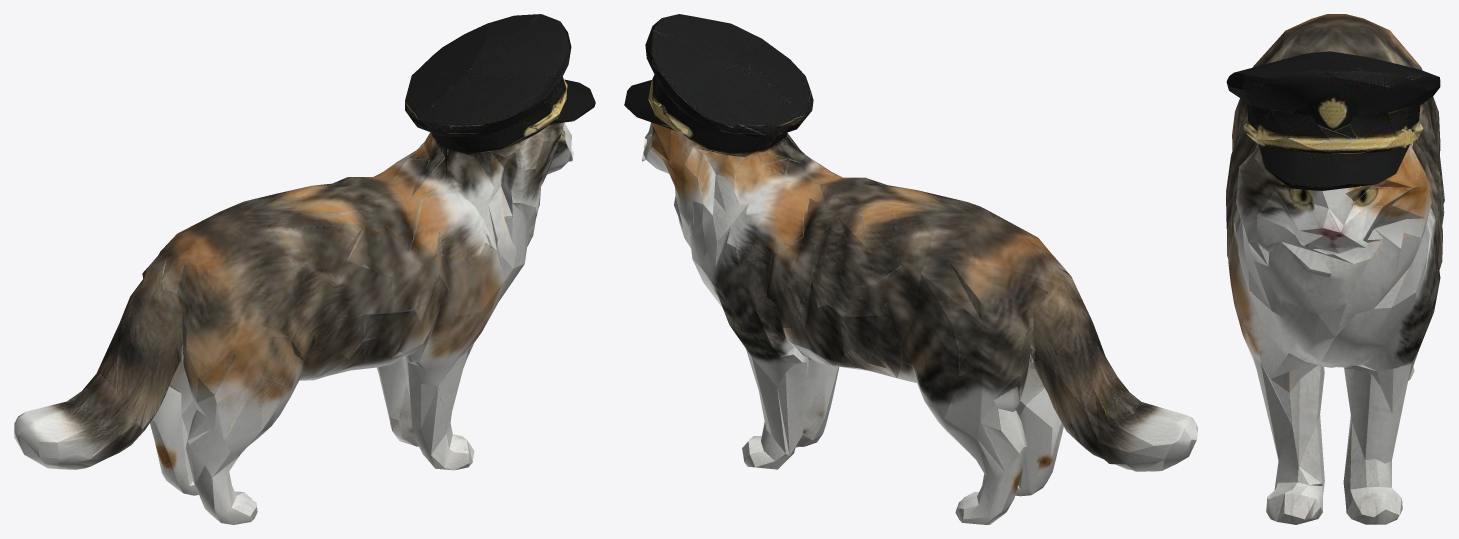
File: NITAMACAT-lo.glb
The picture shows the model from 3 angles, left to right: view 1: azimuth 30°, elevation 25°; view 2: azimuth 150°, elevation 25°; view 3: azimuth 270°, elevation 25°; orthographic projection. The views are drawn at different scales.
Parts seen in each view (by area): view 1: output_unwrapped; view 2: output_unwrapped; view 3: output_unwrapped.
Boxes of the visible parts, box(x1,y1,x2,y2) form: output_unwrapped: box(14, 14, 595, 524); output_unwrapped: box(624, 14, 1197, 524); output_unwrapped: box(1226, 14, 1444, 524).
Bounding box in the file's own units: 1.48 × 1 × 0.3824.
Materials: 1 (1 with a texture image).
